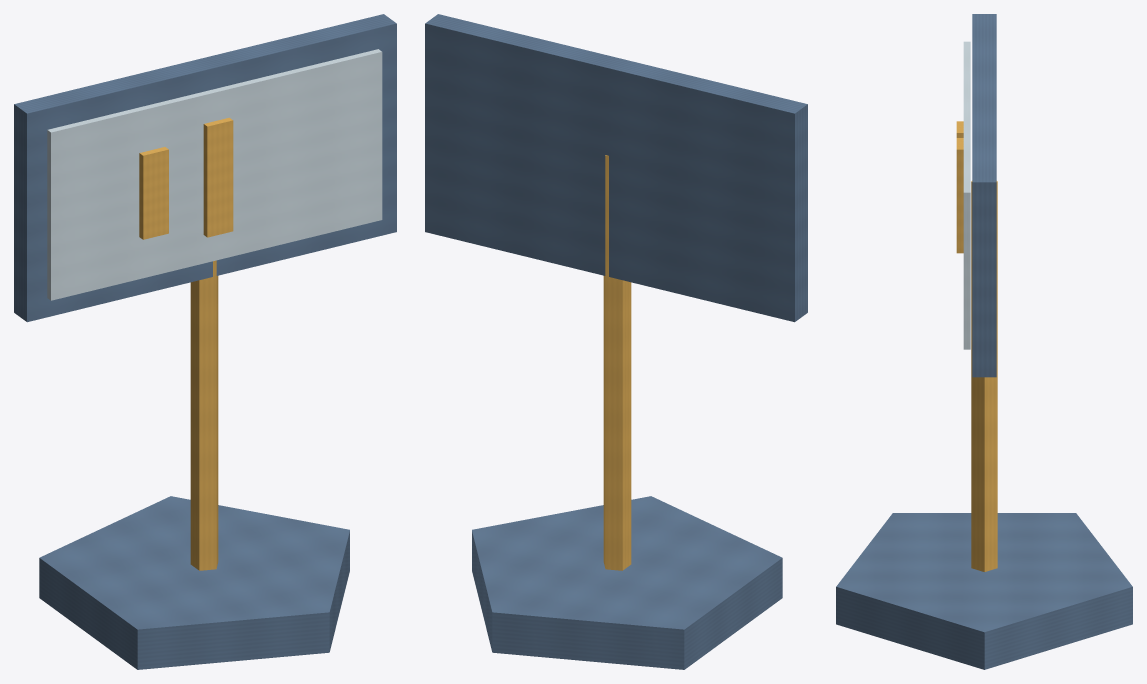
Rendered from atlas100-s052-a11.lod1.glb.
3 renders of one model, left to right at view 1: azimuth 30°, elevation 25°; view 2: azimuth 150°, elevation 25°; view 3: azimuth 270°, elevation 25°, orthographic. The views are drawn at different scales.
Parts seen in each view (by area): view 1: atlas100-s052-a11:part-003, atlas100-s052-a11:part-000, atlas100-s052-a11:part-002, atlas100-s052-a11:part-001, atlas100-s052-a11:part-005, atlas100-s052-a11:part-004; view 2: atlas100-s052-a11:part-002, atlas100-s052-a11:part-000, atlas100-s052-a11:part-001; view 3: atlas100-s052-a11:part-000, atlas100-s052-a11:part-002, atlas100-s052-a11:part-001, atlas100-s052-a11:part-003, atlas100-s052-a11:part-005.
Part boxes in pixels (x1,y1,x2,y2): atlas100-s052-a11:part-003: (47, 49, 382, 300); atlas100-s052-a11:part-000: (39, 496, 349, 669); atlas100-s052-a11:part-002: (14, 14, 396, 322); atlas100-s052-a11:part-001: (190, 260, 218, 570); atlas100-s052-a11:part-005: (203, 117, 233, 237); atlas100-s052-a11:part-004: (139, 147, 168, 239); atlas100-s052-a11:part-002: (425, 14, 807, 322); atlas100-s052-a11:part-000: (472, 496, 782, 669); atlas100-s052-a11:part-001: (603, 155, 631, 570); atlas100-s052-a11:part-000: (836, 513, 1132, 669); atlas100-s052-a11:part-002: (972, 14, 996, 377); atlas100-s052-a11:part-001: (971, 181, 997, 571); atlas100-s052-a11:part-003: (963, 41, 970, 349); atlas100-s052-a11:part-005: (956, 138, 963, 253).
Size of the model in its own units: 1.15 by 1.61 by 0.856.
Materials: 3 (3 with a texture image).
